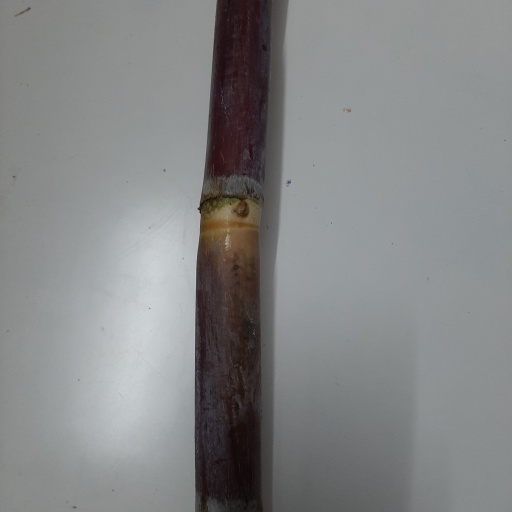Bud: (235, 198, 249, 218)
